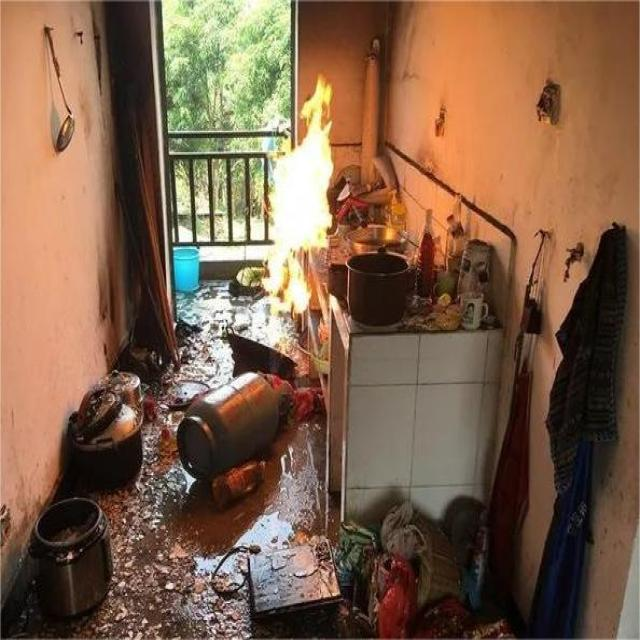Fire: (262, 79, 335, 310)
